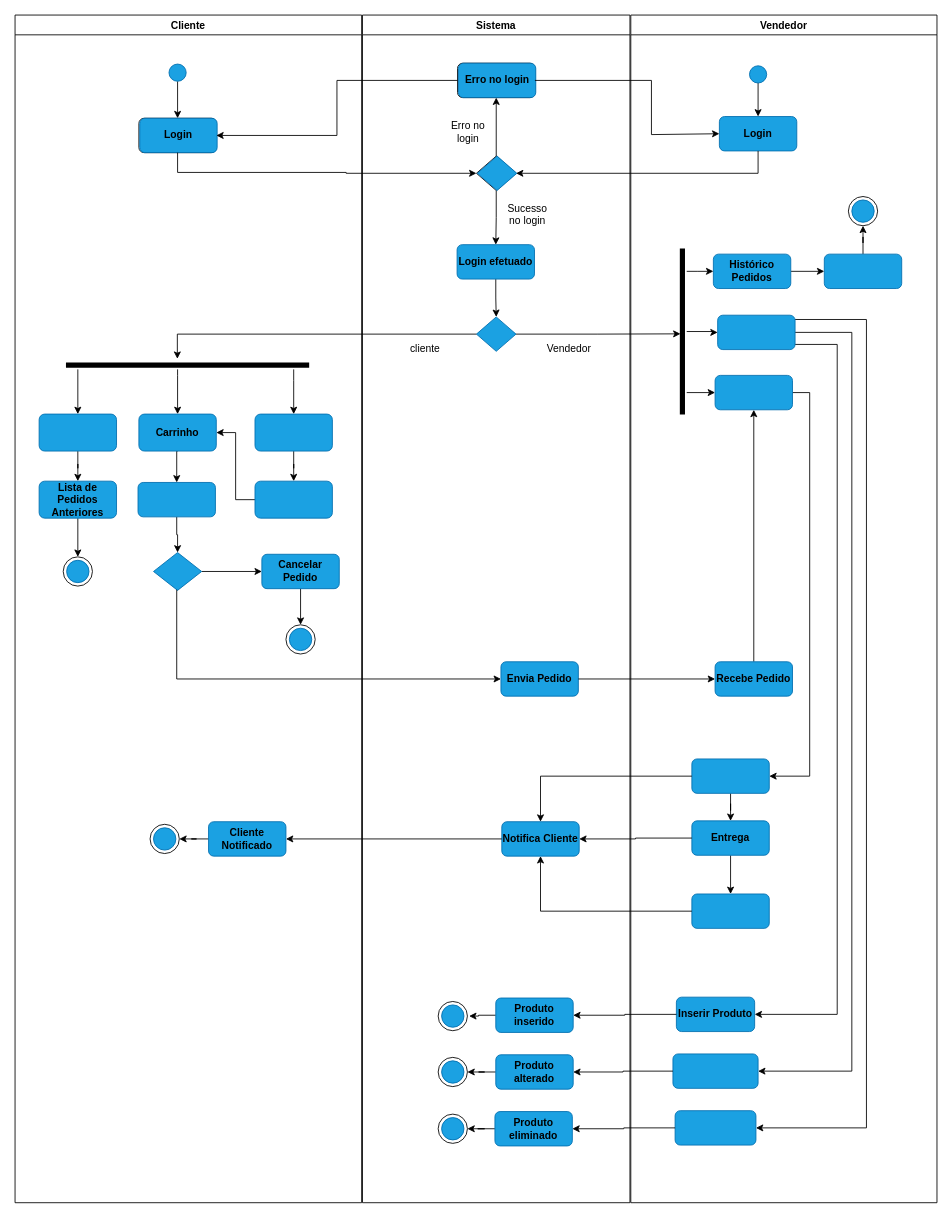
Image size: 952x1218. Some labels were removed from this diagram. The centre of each missing label's shape, as x and y in pixels:
"Alterar Produtos" goes at pixel 715 1070.
"Apagar Produtos" goes at pixel 715 1127.
"Concluido" goes at pixel 730 910.
"Efetuar Pedido" goes at pixel 176 499.
"Histórico" goes at pixel 77 432.
"Lista Pedidos" goes at pixel 862 271.
"Lista Produtos" goes at pixel 293 432.
"Pedidos" goes at pixel 753 392.
"Preparação" goes at pixel 730 775.
"Produtos" goes at pixel 756 332.
"seleciona Produto" goes at pixel 293 499.
